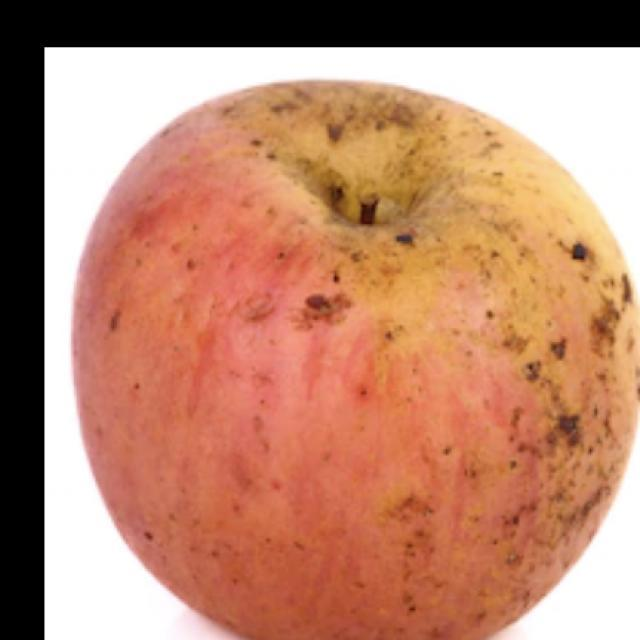Rotten: (65, 76, 640, 640)
